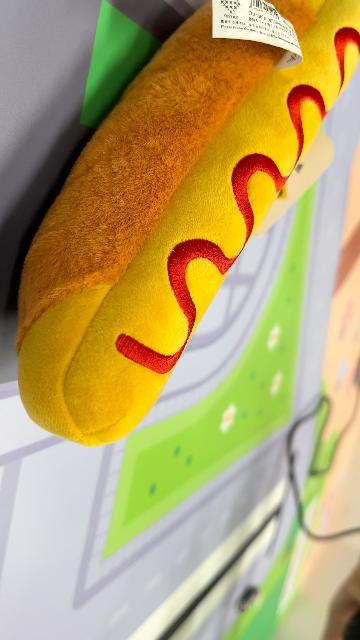hotdog: (16, 1, 358, 448)
